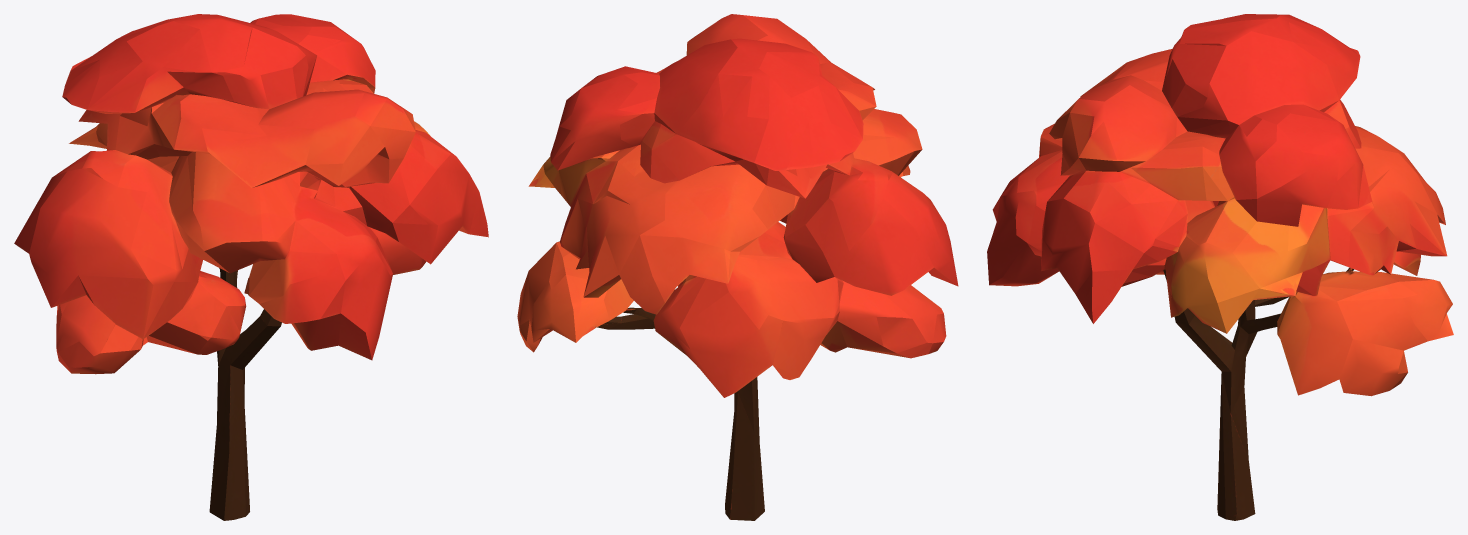
File: maple_tree.glb
The picture shows the model from 3 angles, left to right: view 1: azimuth 30°, elevation 25°; view 2: azimuth 150°, elevation 25°; view 3: azimuth 270°, elevation 25°; orthographic projection. The views are drawn at different scales.
Visible parts, largest first — view 1: output_unwrapped; view 2: output_unwrapped; view 3: output_unwrapped.
Boxes of the visible parts, x1,y1,x2,y2 form: output_unwrapped: (14,14,488,520); output_unwrapped: (517,14,958,520); output_unwrapped: (987,14,1453,520).
Size of the model in its own units: 1.66 by 1.9 by 1.67.
1 material, 1 textured.
